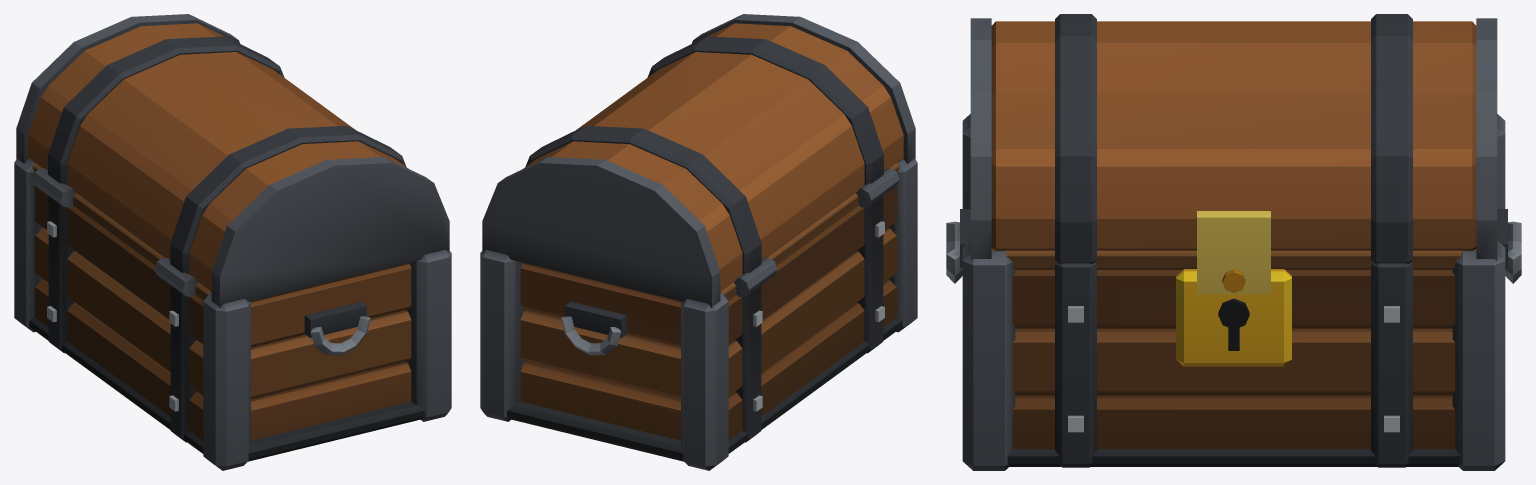
Rendered from chest.glb.
3 views of the same model, side by side, from view 1: azimuth 30°, elevation 25°; view 2: azimuth 150°, elevation 25°; view 3: azimuth 270°, elevation 25° (orthographic). The views are drawn at different scales.
Parts seen in each view (by area): view 1: Lid, Body; view 2: Lid, Body; view 3: Lid, Body.
Part boxes in pixels (box(x1,y1,x2,y2)): Lid: box(16, 14, 449, 308); Body: box(14, 159, 451, 470); Lid: box(482, 14, 915, 308); Body: box(480, 159, 917, 470); Lid: box(970, 14, 1497, 294); Body: box(946, 114, 1521, 470).
Size of the model in its own units: 0.726 by 0.764 by 1.09.
